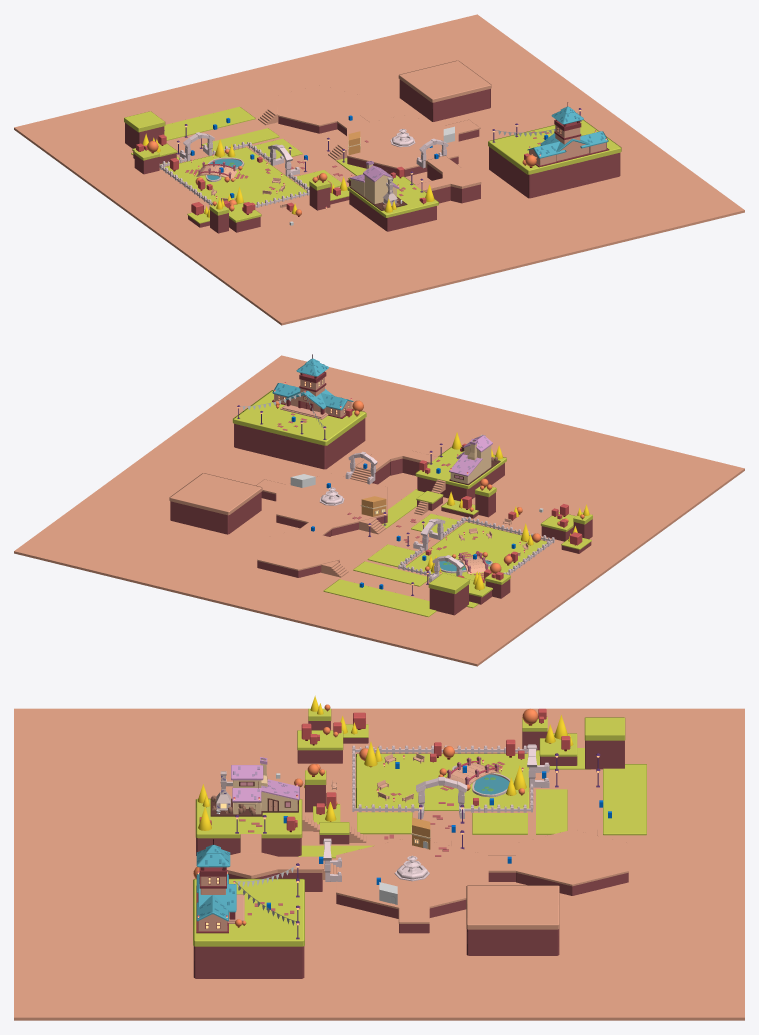
File: Town_test 1.fbx
The picture shows the model from 3 angles, top to bottom: view 1: azimuth 30°, elevation 25°; view 2: azimuth 150°, elevation 25°; view 3: azimuth 270°, elevation 25°; orthographic projection. The views are drawn at different scales.
Parts seen in each view (by area): view 1: Main_base, Square_street, Park_base, Dirt.009, Square_street.001, Grass.016, Grass.014, Dirt.010, Park_base.003, Dirt.006, Grass.010, Park_base.001 (+5 smaller); view 2: Main_base, Square_street, Dirt.009, Park_base, Grass.014, Square_street.001, Grass.016, Dirt.010, Park_base.003, Grass.010, Dirt.006, Dirt.004 (+6 smaller); view 3: Main_base, Square_street, Park_base, Grass.014, Square_street.001, Grass.016, Dirt.009, Park_base.003, Dirt.010, Grass.010, Park_base.001, Dirt.006 (+18 smaller).
Boxes of the visible parts, x1,y1,x2,y2 form: Main_base: (14,14,744,325); Square_street: (347,115,458,169); Park_base: (165,147,306,205); Dirt.009: (489,147,620,198); Square_street.001: (278,85,360,126); Grass.016: (398,60,491,102); Grass.014: (488,120,621,174); Dirt.010: (399,79,490,121); Park_base.003: (164,106,255,140); Dirt.006: (349,192,436,231); Grass.010: (347,175,438,217); Park_base.001: (201,128,279,151); Main_base: (14,355,744,666); Square_street: (276,473,387,528); Dirt.009: (234,418,365,469); Park_base: (406,522,546,583); Grass.014: (232,390,366,445); Square_street.001: (257,529,339,570); Grass.016: (169,473,262,515); Dirt.010: (170,492,261,534); Park_base.003: (323,579,436,617); Grass.010: (415,446,506,488); Dirt.006: (417,463,504,501); Dirt.004: (429,584,468,615); Main_base: (14,708,744,1020); Square_street: (336,837,488,909); Park_base: (356,753,529,810); Grass.014: (193,878,304,946); Square_street.001: (516,829,628,886); Grass.016: (466,885,559,929); Dirt.009: (193,946,304,978); Park_base.003: (603,764,646,835); Dirt.010: (466,929,559,955); Grass.010: (195,798,302,838); Park_base.001: (536,789,567,834); Dirt.006: (196,837,301,856).
Bounding box in the file's own units: 174 × 29.35 × 174.
